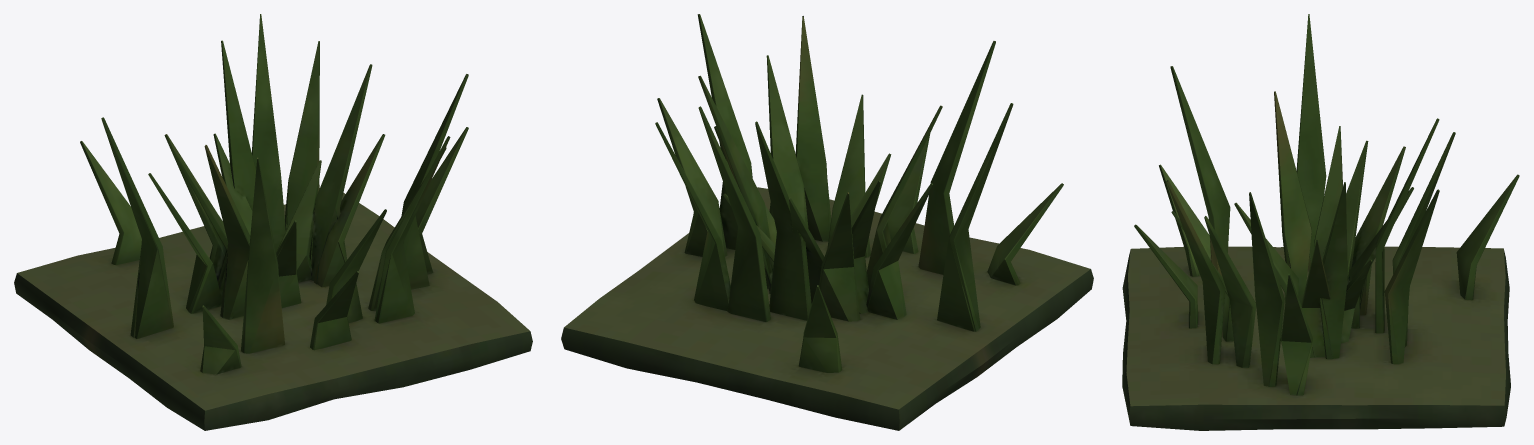
File: tall_grass_clump.glb
3 views of the same model, side by side, from view 1: azimuth 30°, elevation 25°; view 2: azimuth 150°, elevation 25°; view 3: azimuth 270°, elevation 25° (orthographic). The views are drawn at different scales.
Visible parts, largest first — view 1: tall_grass_clump; view 2: tall_grass_clump; view 3: tall_grass_clump.
Boxes of the visible parts, x1,y1,x2,y2 form: tall_grass_clump: (14, 14, 532, 430); tall_grass_clump: (561, 14, 1093, 430); tall_grass_clump: (1122, 14, 1519, 430).
Bounding box in the file's own units: 0.6987 × 0.483 × 0.6786.
Materials: 1 (1 with a texture image).
